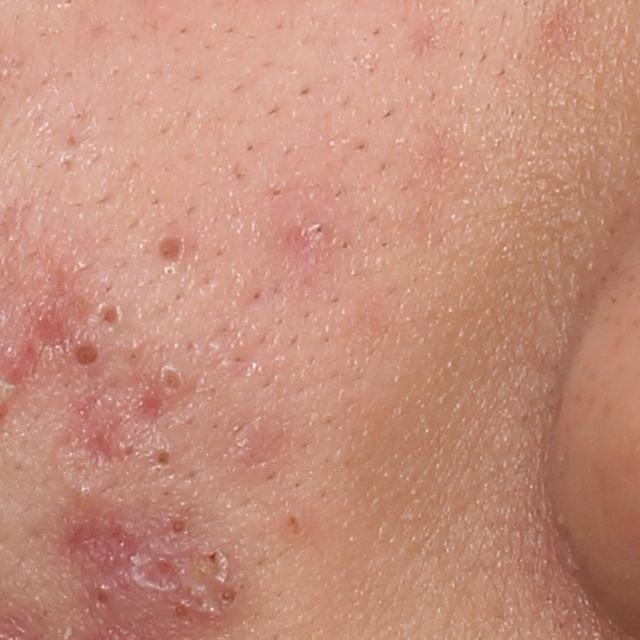atrophic_scar: (59, 377, 127, 488), (123, 385, 168, 431)
comedo: (153, 228, 193, 265), (151, 359, 188, 399), (93, 299, 126, 327), (69, 341, 101, 368), (302, 218, 330, 243), (153, 445, 177, 472), (215, 583, 240, 608), (168, 513, 191, 538)
